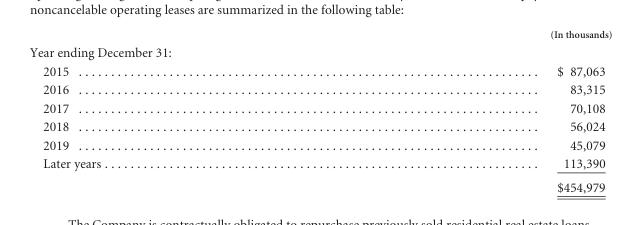table: (28, 28, 611, 194)
table column: (28, 28, 324, 194), (324, 28, 611, 194)
table column header: (28, 28, 611, 42)
table projected row header: (28, 42, 611, 61)
table row: (28, 154, 611, 175), (28, 42, 611, 61), (28, 79, 611, 98), (28, 98, 611, 117), (28, 135, 611, 154), (28, 175, 611, 194), (28, 61, 611, 79), (28, 117, 611, 135), (28, 28, 611, 42)
